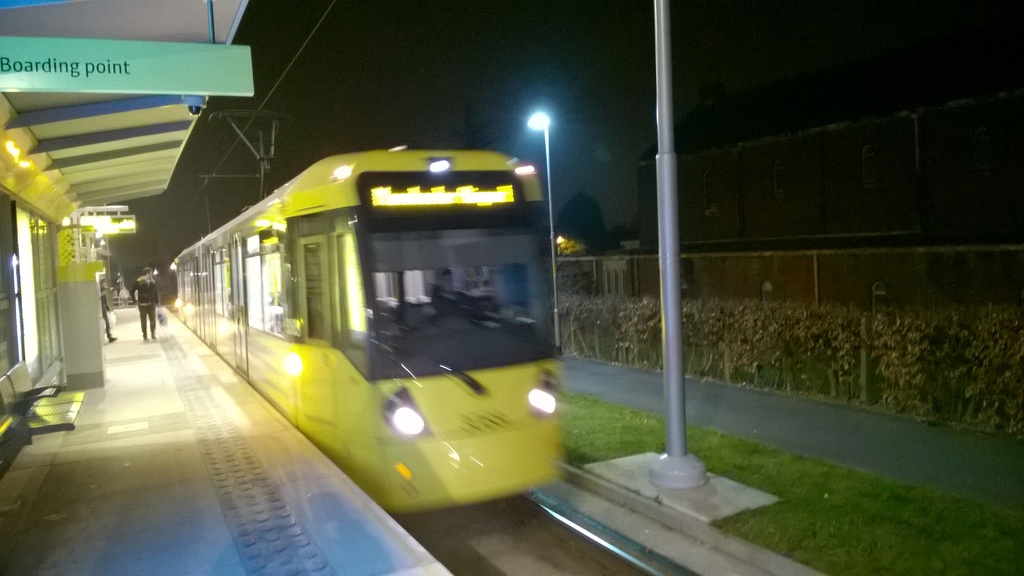train: (174, 108, 552, 510)
